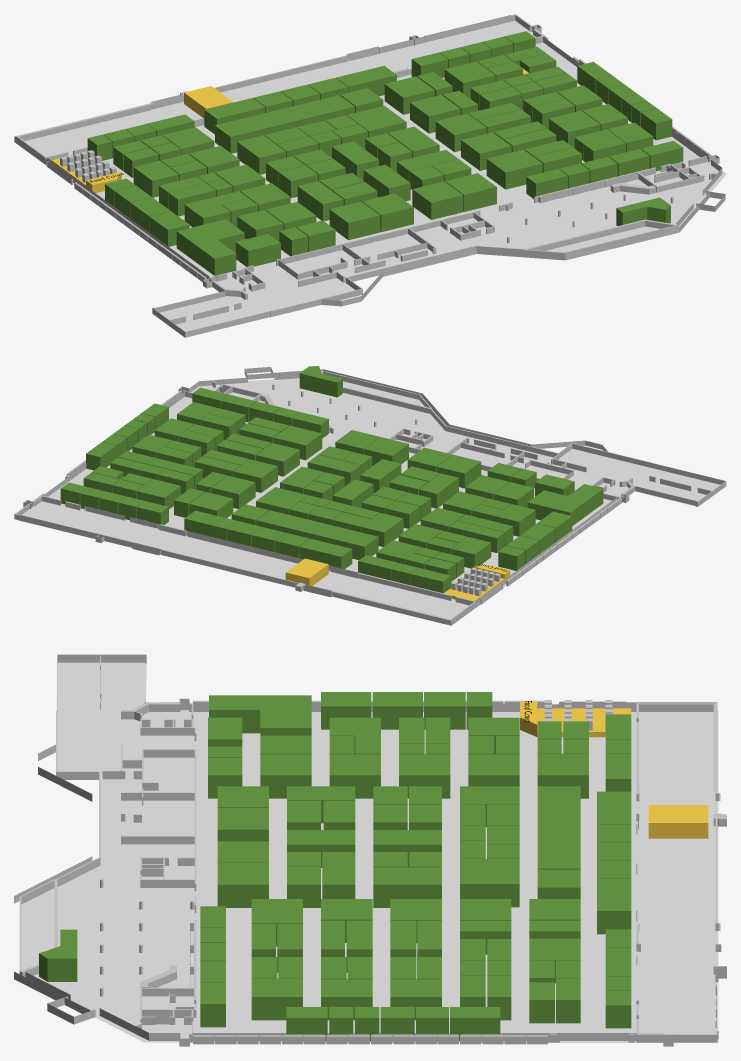
File: Hall_E_3.glb
3 views of the same model, one above another, from view 1: azimuth 30°, elevation 25°; view 2: azimuth 150°, elevation 25°; view 3: azimuth 270°, elevation 25° (orthographic). The views are drawn at different scales.
Parts seen in each view (by area): view 1: Background_curve_, Building_curve_, BOOTHLAYER_curve_.E-2050, BOOTHLAYER_curve_.E-6000, BOOTHLAYER_curve_.E-6200, BOOTHLAYER_curve_.E-6130, BOOTHLAYER_curve_.E-6100, BOOTHLAYER_curve_.E-5020, BOOTHLAYER_curve_.E-4200, BOOTHLAYER_curve_.E-6120, BOOTHLAYER_curve_.E-6150, BOOTHLAYER_curve_.E-3200 (+64 smaller); view 2: Background_curve_, Building_curve_, BOOTHLAYER_curve_.E-2050, BOOTHLAYER_curve_.E-6000, BOOTHLAYER_curve_.E-5020, BOOTHLAYER_curve_.E-1030, BOOTHLAYER_curve_.E-6200, BOOTHLAYER_curve_.E-1060, BOOTHLAYER_curve_.E-7000, BOOTHLAYER_curve_.E-4200, BOOTHLAYER_curve_.E-3200, BOOTHLAYER_curve_.E-3100 (+59 smaller); view 3: Background_curve_, Building_curve_, BOOTHLAYER_curve_.E-2050, BOOTHLAYER_curve_.E-6000, BOOTHLAYER_curve_.E-3150, BOOTHLAYER_curve_.E-4180, BOOTHLAYER_curve_.E-6150, Logistics, BOOTHLAYER_curve_.E-6270, BOOTHLAYER_curve_.E-5060, BOOTHLAYER_curve_.E-6050, BOOTHLAYER_curve_.E-2020 (+68 smaller).
Part boxes in pixels (box(x1,y1,x2,y2)): Background_curve_: box(14, 20, 726, 337); Building_curve_: box(14, 14, 725, 337); BOOTHLAYER_curve_.E-2050: box(215, 95, 354, 153); BOOTHLAYER_curve_.E-6000: box(176, 219, 244, 275); BOOTHLAYER_curve_.E-6200: box(486, 149, 542, 189); BOOTHLAYER_curve_.E-6130: box(412, 181, 463, 219); BOOTHLAYER_curve_.E-6100: box(329, 201, 380, 240); BOOTHLAYER_curve_.E-5020: box(184, 191, 248, 227); BOOTHLAYER_curve_.E-4200: box(435, 113, 486, 152); BOOTHLAYER_curve_.E-6120: box(362, 193, 413, 232); BOOTHLAYER_curve_.E-6150: box(445, 173, 496, 211); BOOTHLAYER_curve_.E-3200: box(410, 95, 460, 133); Background_curve_: box(15, 378, 726, 625); Building_curve_: box(14, 367, 726, 625); BOOTHLAYER_curve_.E-2050: box(256, 510, 378, 559); BOOTHLAYER_curve_.E-6000: box(527, 484, 603, 525); BOOTHLAYER_curve_.E-5020: box(471, 504, 535, 536); BOOTHLAYER_curve_.E-1030: box(299, 538, 352, 569); BOOTHLAYER_curve_.E-6200: box(273, 425, 322, 460); BOOTHLAYER_curve_.E-1060: box(184, 510, 237, 540); BOOTHLAYER_curve_.E-7000: box(299, 366, 342, 397); BOOTHLAYER_curve_.E-4200: box(233, 459, 277, 492); BOOTHLAYER_curve_.E-3200: box(211, 475, 255, 508); BOOTHLAYER_curve_.E-3100: box(361, 513, 403, 546); Background_curve_: box(21, 662, 718, 1042); Building_curve_: box(14, 654, 726, 1046); BOOTHLAYER_curve_.E-2050: box(537, 786, 580, 869); BOOTHLAYER_curve_.E-6000: box(209, 695, 311, 735); BOOTHLAYER_curve_.E-3150: box(460, 859, 519, 907); BOOTHLAYER_curve_.E-4180: box(373, 867, 441, 907); BOOTHLAYER_curve_.E-6150: box(217, 863, 268, 907); Logistics: box(648, 805, 708, 838); BOOTHLAYER_curve_.E-6270: box(251, 979, 302, 1020); BOOTHLAYER_curve_.E-5060: box(329, 754, 380, 798); BOOTHLAYER_curve_.E-6050: box(260, 754, 311, 798); BOOTHLAYER_curve_.E-2020: box(537, 753, 588, 798).
Size of the model in its own units: 106 by 3 by 83.28.
